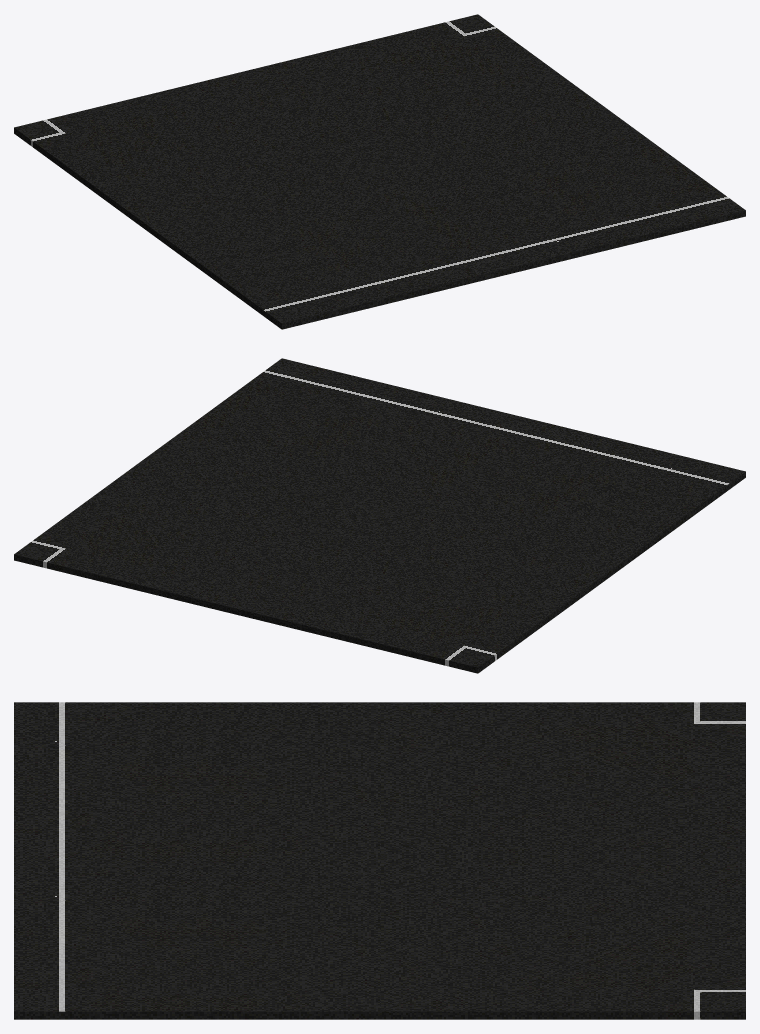
Rendered from road_intersection_corner_01.gltf.
3 renders of one model, top to bottom at view 1: azimuth 30°, elevation 25°; view 2: azimuth 150°, elevation 25°; view 3: azimuth 270°, elevation 25°, orthographic. The views are drawn at different scales.
Parts seen in each view (by area): view 1: road_intersection_corner_01; view 2: road_intersection_corner_01; view 3: road_intersection_corner_01.
Part boxes in pixels (x1,y1,x2,y2): road_intersection_corner_01: (14,14,745,329); road_intersection_corner_01: (14,358,745,673); road_intersection_corner_01: (14,702,745,1019).
Size of the model in its own units: 8 by 0.1 by 8.
1 material, 1 textured.
